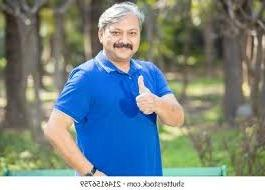Human: (53, 7, 190, 185)
